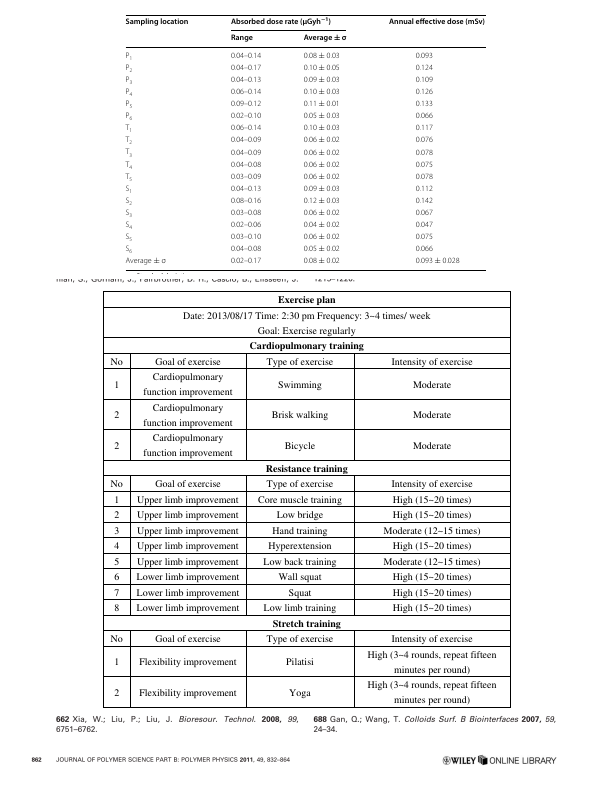bordered: (102, 289, 510, 707)
borderless: (124, 13, 486, 270)
cell: (181, 309, 431, 337), (366, 678, 497, 707), (366, 648, 497, 676), (142, 370, 233, 399), (142, 401, 233, 429), (142, 432, 233, 460), (248, 339, 364, 353), (135, 570, 240, 584), (135, 508, 239, 522), (135, 586, 240, 599), (135, 602, 240, 615), (135, 493, 239, 506), (135, 524, 239, 537), (135, 540, 239, 553), (135, 555, 239, 568), (382, 524, 481, 537), (382, 555, 481, 568), (138, 656, 237, 669), (138, 686, 237, 699), (390, 477, 473, 491), (391, 508, 472, 522), (391, 570, 472, 584), (230, 16, 332, 27), (256, 493, 342, 506), (264, 462, 348, 475), (390, 355, 473, 368), (390, 633, 473, 646), (391, 493, 472, 506), (391, 540, 472, 553), (391, 586, 472, 599), (391, 602, 472, 615), (388, 17, 486, 27), (262, 555, 337, 568), (262, 602, 337, 615), (265, 477, 334, 491), (154, 477, 221, 491), (271, 617, 341, 630), (265, 355, 334, 368), (265, 633, 334, 646), (154, 355, 221, 368), (154, 633, 221, 646), (267, 540, 332, 553), (276, 293, 336, 307), (270, 408, 329, 422), (271, 524, 328, 537), (275, 508, 324, 522), (125, 17, 189, 27), (277, 570, 322, 584), (276, 378, 322, 391), (411, 408, 452, 422), (411, 378, 452, 391), (411, 439, 452, 452), (303, 33, 347, 43), (283, 439, 316, 452), (415, 257, 461, 266), (284, 656, 314, 669), (124, 257, 167, 266), (303, 51, 341, 61), (303, 63, 341, 73), (303, 172, 341, 182), (303, 184, 341, 194), (303, 76, 341, 85), (303, 88, 341, 97), (303, 100, 341, 109), (303, 112, 341, 121), (303, 124, 341, 133), (303, 136, 341, 145), (303, 148, 341, 157), (303, 160, 341, 169), (303, 197, 341, 206), (303, 209, 341, 218), (303, 221, 341, 230), (303, 233, 341, 242), (303, 245, 341, 254), (303, 257, 341, 266), (287, 586, 312, 599), (230, 51, 262, 61), (230, 63, 262, 73), (230, 172, 262, 182), (230, 184, 262, 194), (287, 686, 311, 699), (230, 76, 262, 85), (230, 88, 262, 97), (230, 100, 262, 109), (230, 112, 262, 121), (230, 124, 262, 133), (230, 136, 262, 145), (230, 148, 262, 157), (230, 160, 262, 169), (230, 197, 262, 206), (230, 209, 262, 218), (230, 221, 262, 230), (230, 233, 262, 242), (230, 245, 262, 254), (230, 257, 262, 266), (230, 33, 254, 43), (109, 477, 123, 491), (415, 51, 434, 61), (415, 63, 434, 73), (415, 172, 434, 182), (415, 184, 434, 194), (109, 355, 123, 368), (109, 633, 123, 646), (415, 76, 434, 85), (415, 88, 434, 97), (415, 100, 434, 109), (415, 112, 434, 121), (415, 124, 434, 133), (415, 136, 434, 145), (415, 148, 434, 157), (415, 160, 434, 169), (415, 197, 434, 206), (415, 209, 434, 218), (415, 221, 434, 230), (415, 233, 434, 242), (415, 245, 434, 254), (124, 124, 133, 135), (124, 136, 133, 147), (124, 148, 133, 159), (124, 160, 133, 171), (124, 172, 133, 183), (124, 184, 133, 195), (124, 233, 133, 244), (124, 245, 133, 256), (113, 408, 120, 422), (113, 508, 120, 522), (113, 570, 120, 584), (113, 378, 120, 391), (113, 439, 120, 452), (113, 493, 120, 506), (113, 524, 120, 537), (113, 540, 120, 553), (113, 555, 120, 568), (113, 586, 120, 599), (113, 602, 120, 615), (113, 656, 120, 669), (113, 686, 120, 699), (124, 197, 133, 207), (124, 209, 133, 219), (124, 221, 133, 231), (125, 51, 133, 62), (125, 63, 133, 74), (125, 112, 133, 123), (125, 76, 133, 86), (125, 88, 133, 98), (125, 100, 133, 110)
